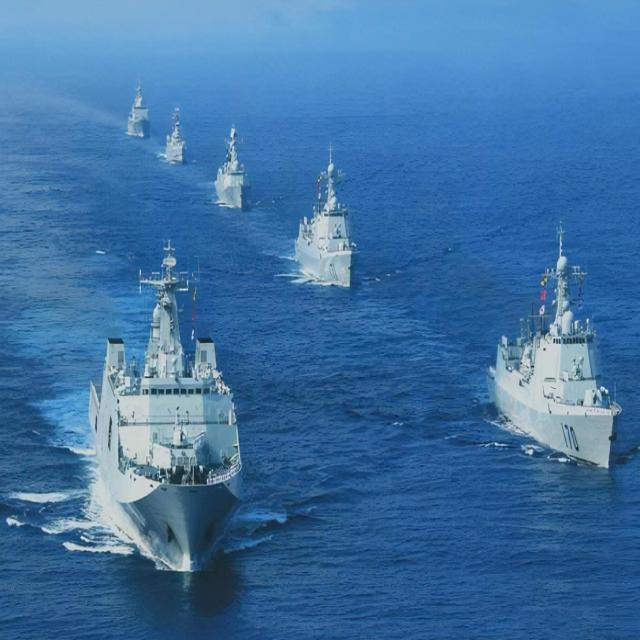navalvessels: (71, 244, 250, 565), (469, 221, 618, 472), (283, 146, 355, 295), (217, 125, 253, 205), (109, 80, 152, 143), (164, 94, 191, 169)
